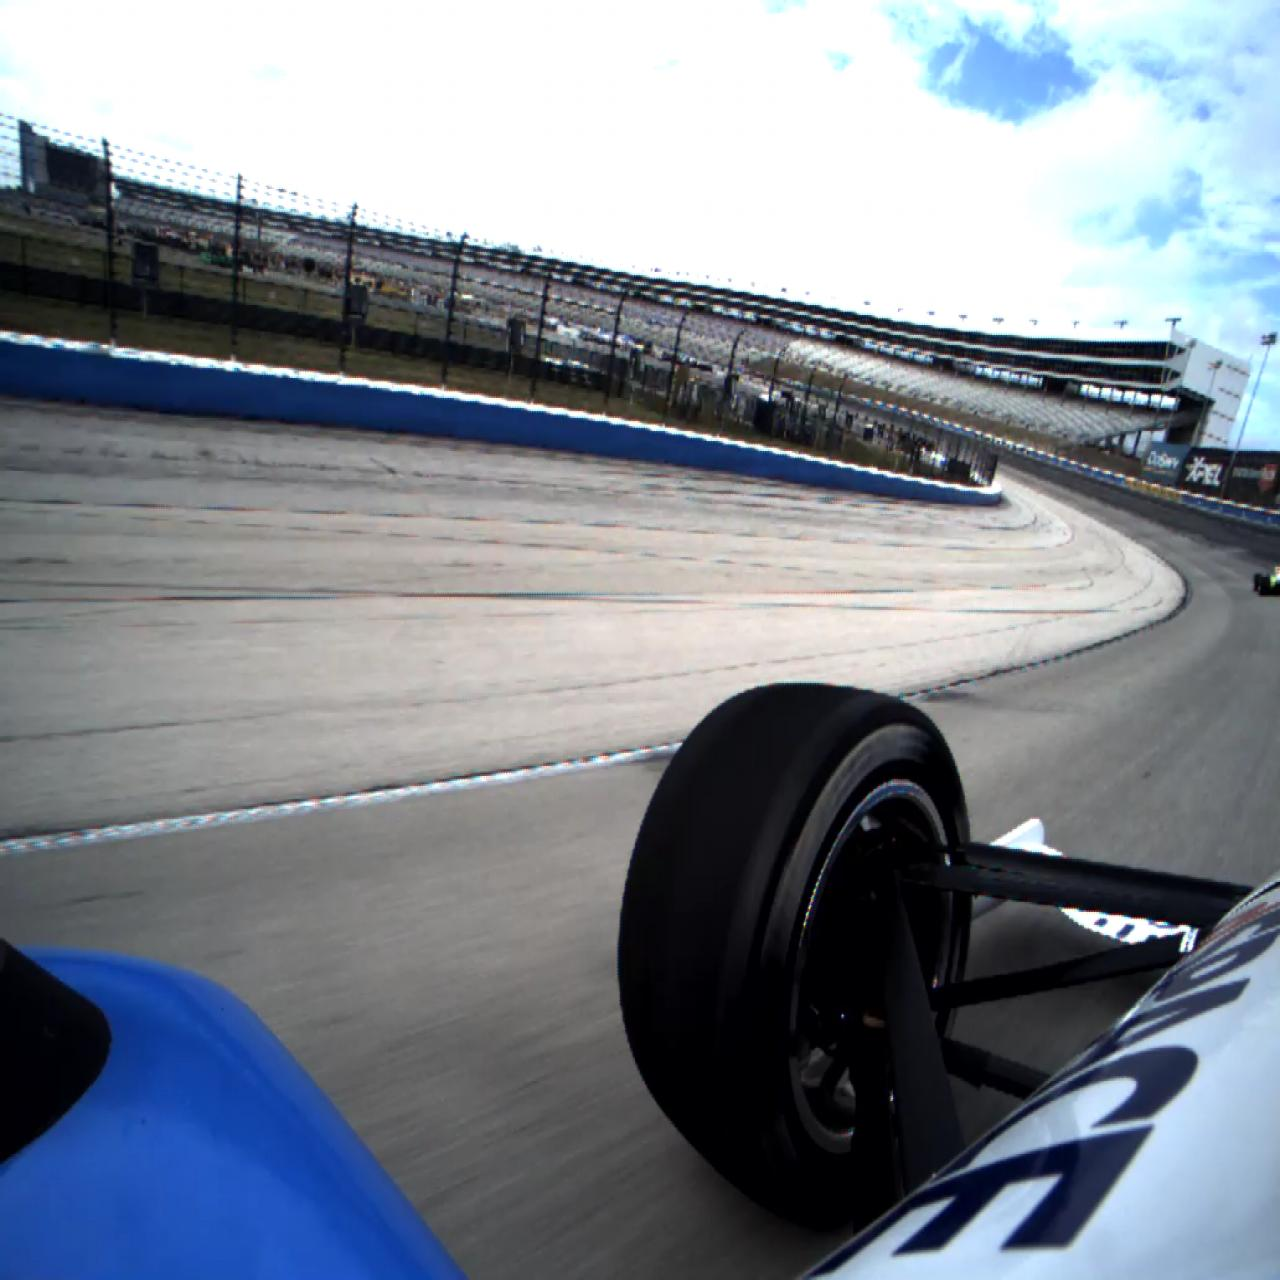AV: (1253, 564, 1280, 595)
Wheel: (619, 683, 972, 1226), (1259, 577, 1269, 595), (1254, 573, 1261, 591)
